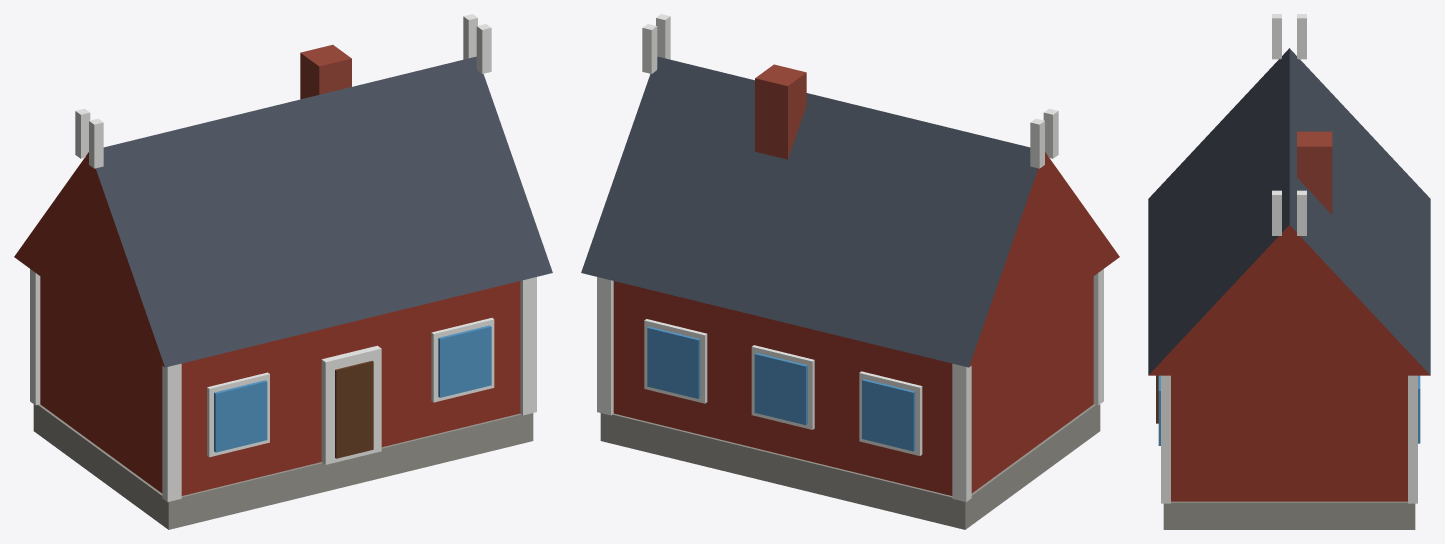
The model's file is 70_nida_wood_4.obj.
3 views of the same model, side by side, from view 1: azimuth 30°, elevation 25°; view 2: azimuth 150°, elevation 25°; view 3: azimuth 270°, elevation 25° (orthographic). The views are drawn at different scales.
Parts seen in each view (by area): view 1: 70_nida_wood_4; view 2: 70_nida_wood_4; view 3: 70_nida_wood_4.
Boxes of the visible parts, bbox=[...] form: 70_nida_wood_4: bbox=[14, 14, 552, 529]; 70_nida_wood_4: bbox=[581, 14, 1119, 529]; 70_nida_wood_4: bbox=[1148, 14, 1430, 529].
Bounding box in the file's own units: 1.7 × 1.5 × 1.12.
